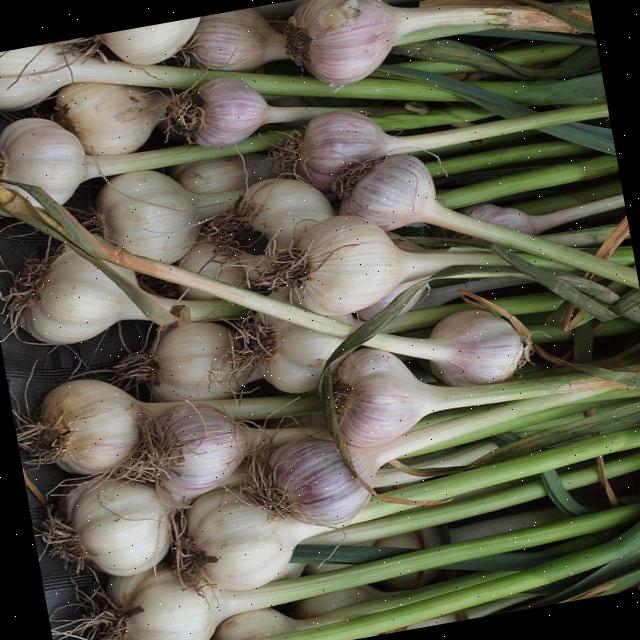garlic: (125, 505, 640, 640), (334, 155, 639, 287), (0, 44, 453, 111), (270, 102, 609, 190), (332, 348, 602, 447), (250, 215, 505, 316), (283, 0, 577, 86), (0, 118, 289, 203), (105, 246, 354, 338), (387, 426, 640, 500), (186, 489, 330, 590), (95, 170, 243, 263), (6, 248, 145, 345), (111, 405, 250, 499), (364, 309, 525, 386), (17, 380, 143, 473), (268, 439, 367, 525), (151, 321, 250, 402), (57, 82, 166, 155), (0, 117, 85, 204), (187, 7, 287, 72), (194, 78, 269, 147), (484, 73, 605, 103), (149, 294, 244, 321), (348, 498, 409, 523)
